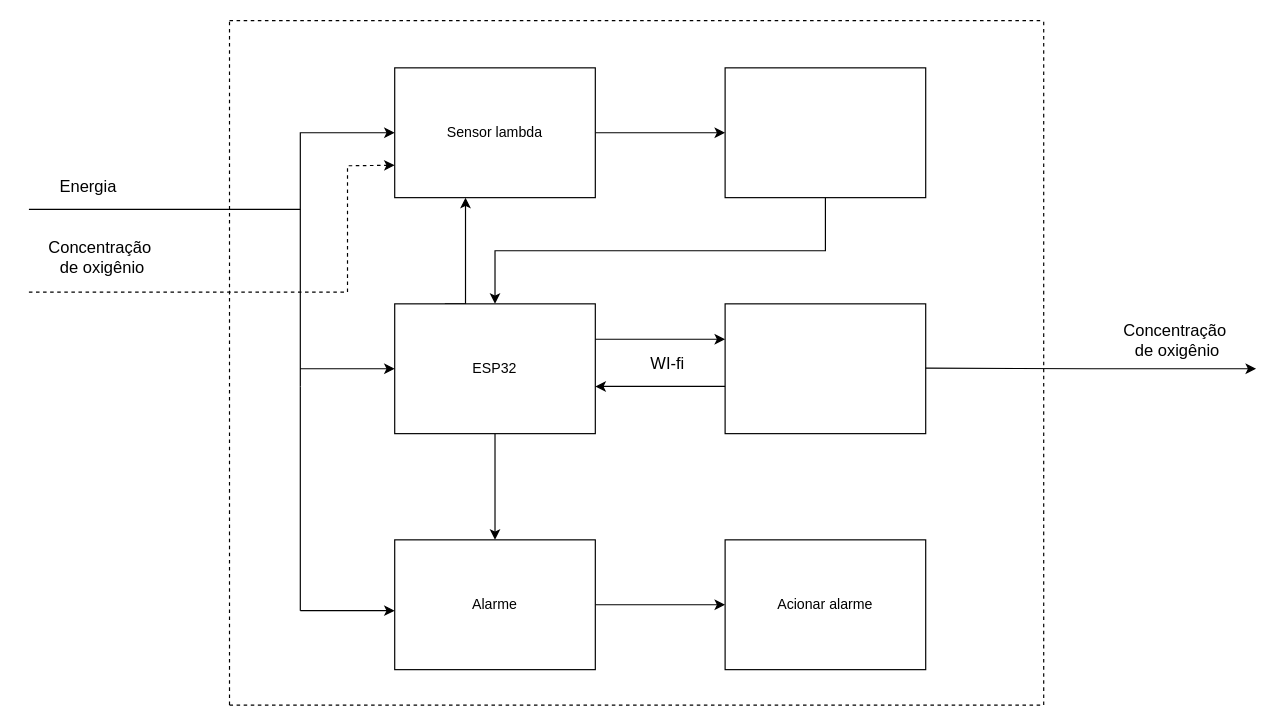
This 1286x727 diagram has some shape labels left out. The box of each missing label's shape, as (x1, y1, x2, y2) in pixels:
Aplicativo web (Concentração aceitável) (Banco de dados): (724, 303, 926, 434)
Realizar a leitura da concentração de oxigênio: (724, 67, 926, 198)
